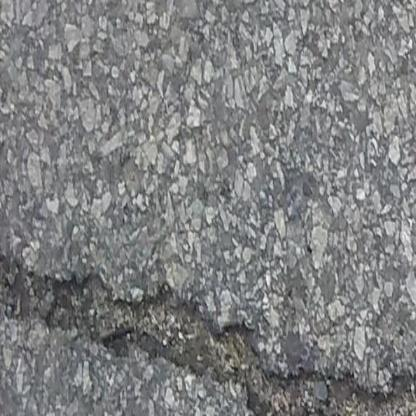Cracks: (0, 244, 416, 416)
